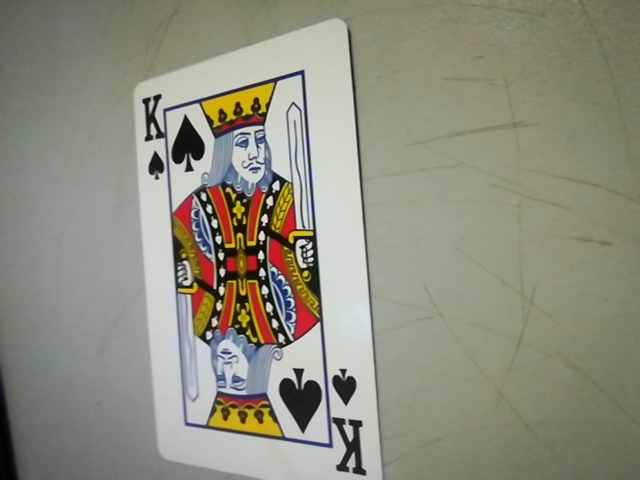ht k: (322, 360, 377, 480)
